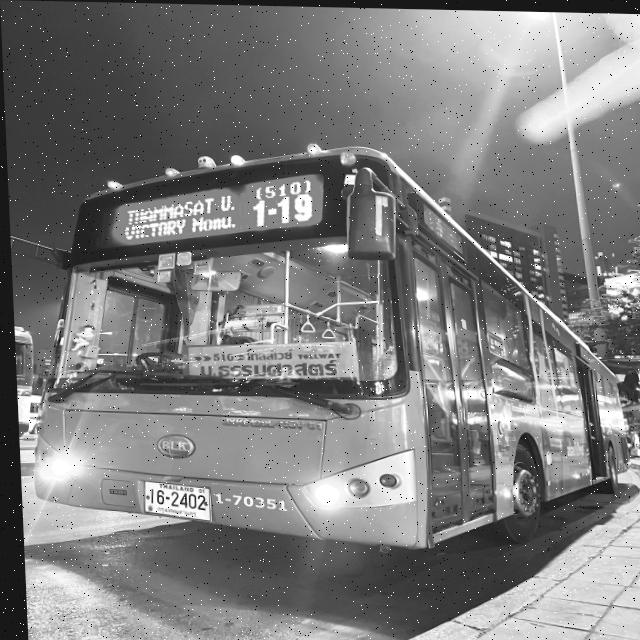BMTA-bus: (17, 139, 635, 555)
Bus-Line-Number: (245, 174, 316, 227)
Destination-Sign-Normal-Expressway: (186, 336, 359, 381)
